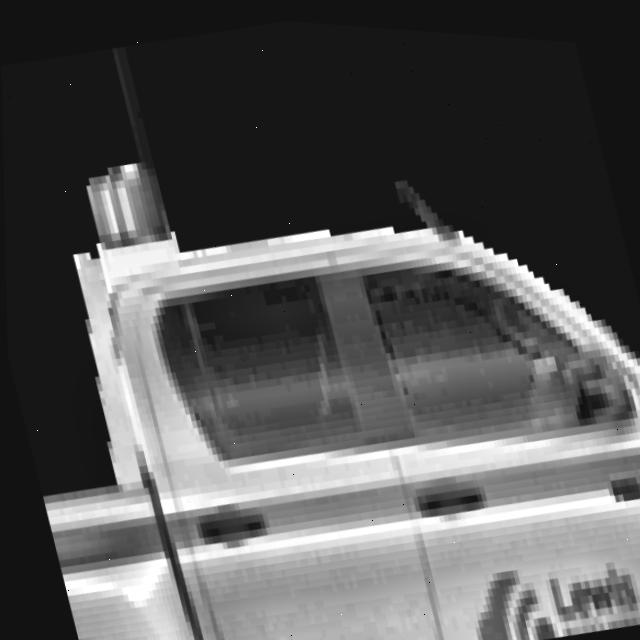light_vehicle: (1, 48, 640, 640)
